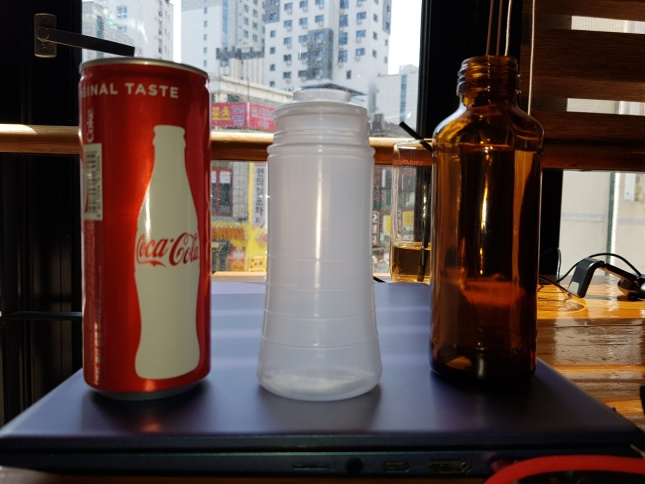Can: (74, 54, 216, 400)
Glass: (426, 53, 546, 398)
Plastic: (256, 98, 385, 402)
